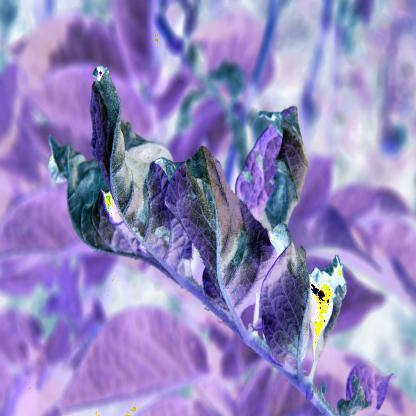Potato leaf: (90, 64, 178, 278), (170, 159, 277, 333), (48, 138, 156, 270), (258, 223, 312, 391), (251, 105, 308, 228)
